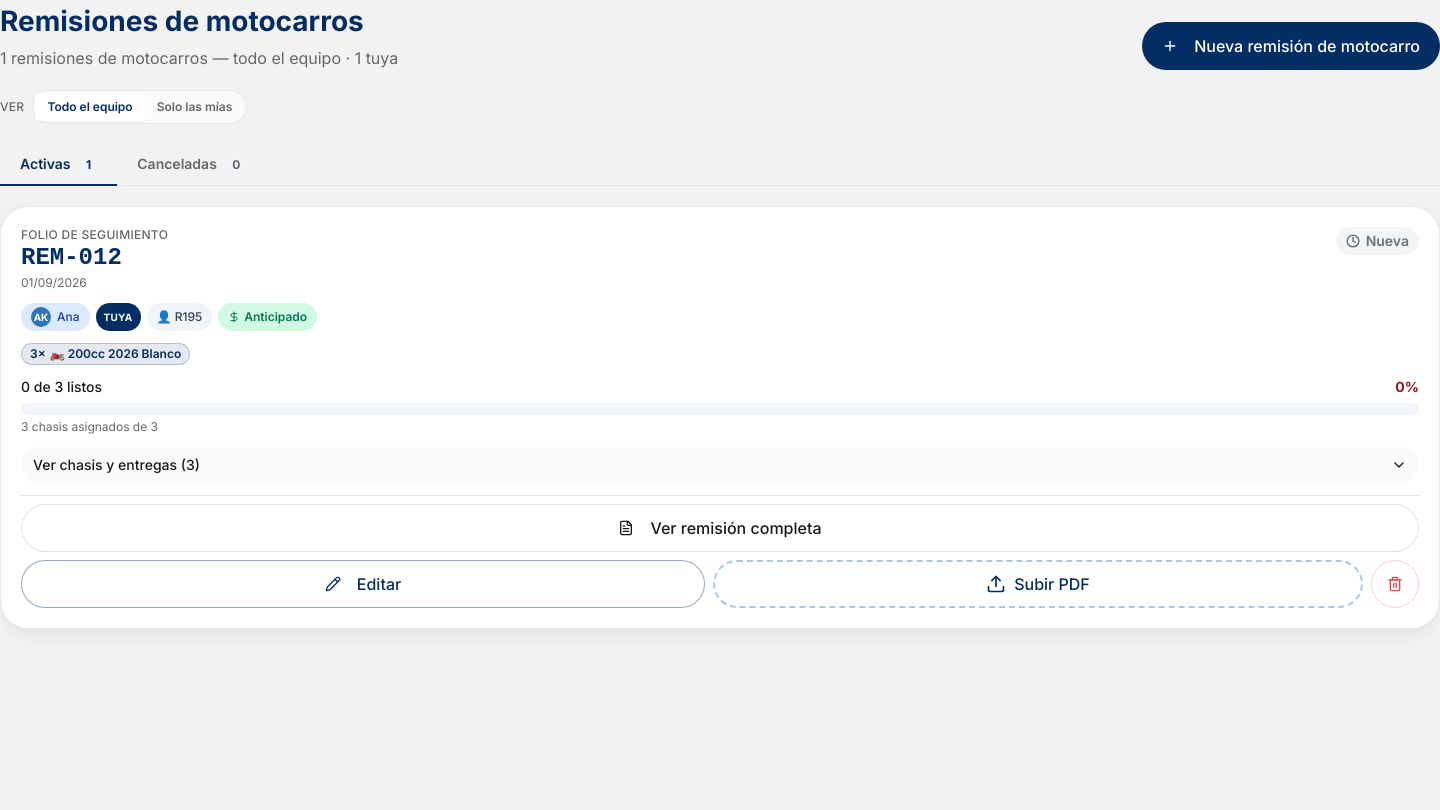
Test case: Remisiones · bajar una remisión con chasis asignados › lo que no ha empezado se libera, sin candados
Click the button "Editar": (363, 584) [21,560,705,608]
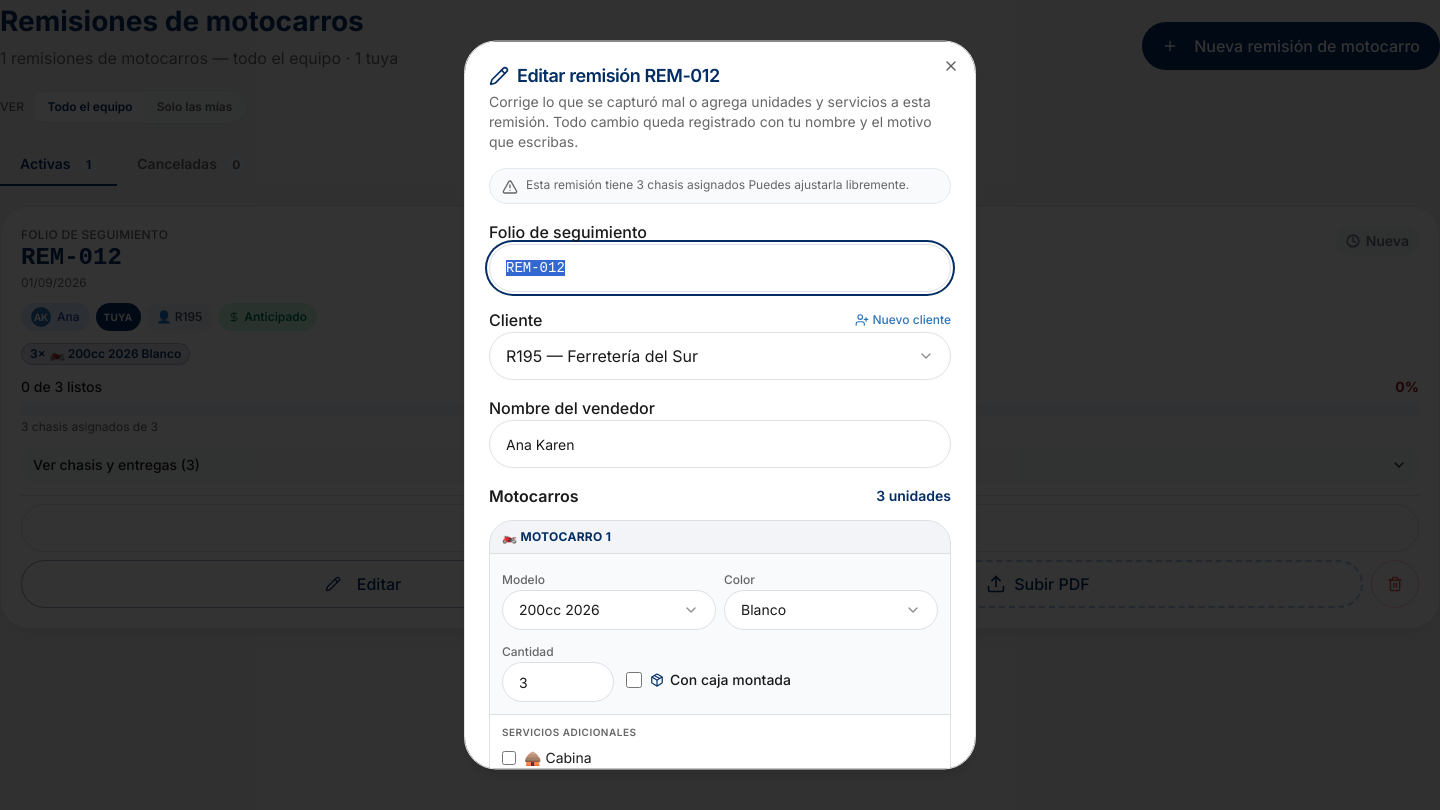
Replace the text in the number field with "1": (558, 682) [502,662,614,702]
(page scrolled)
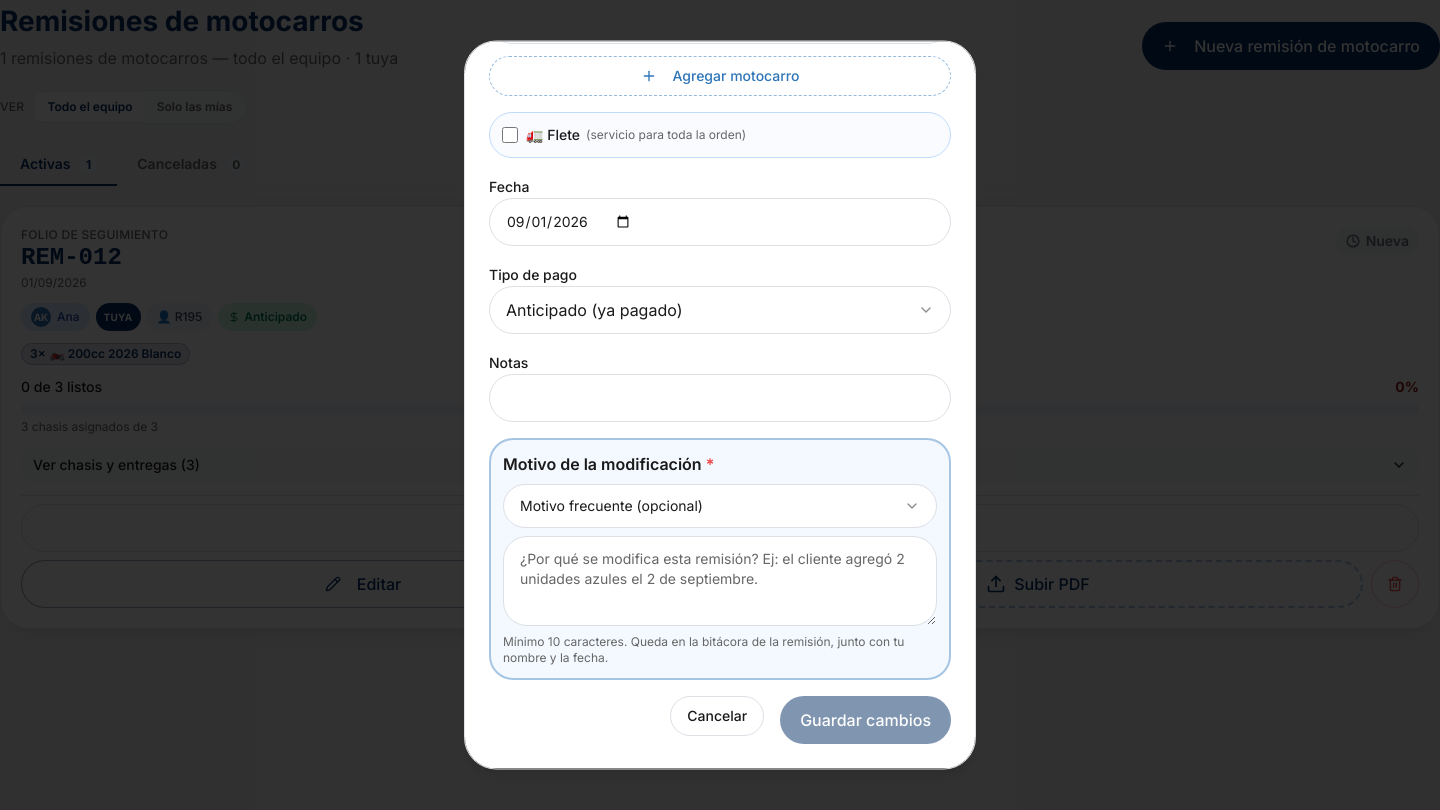
Replace the text in the text box with "El cliente canceló dos unidades": (720, 582) [503,536,937,626]
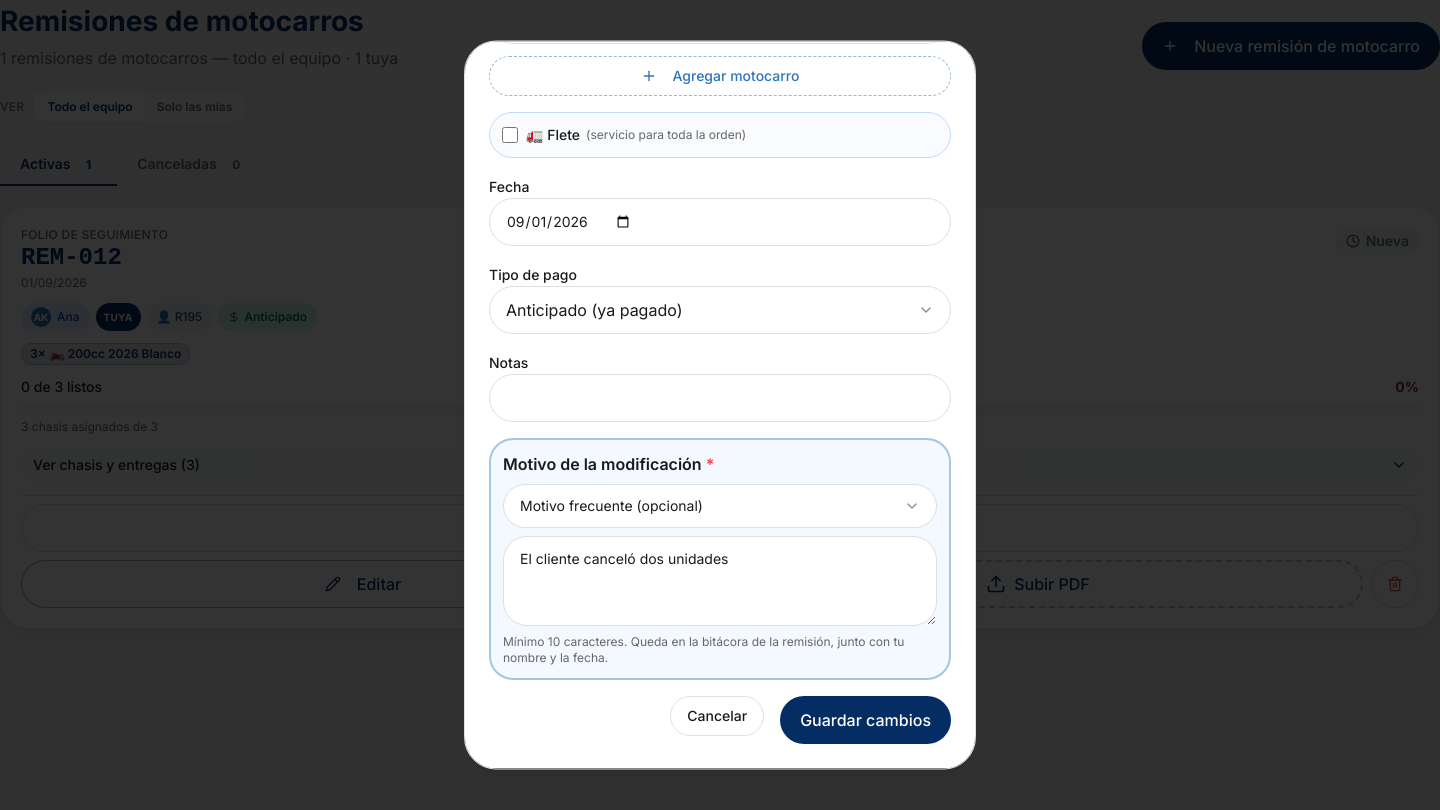
Expected: the button "Guardar cambios" is enabled, [780,696,951,744]
